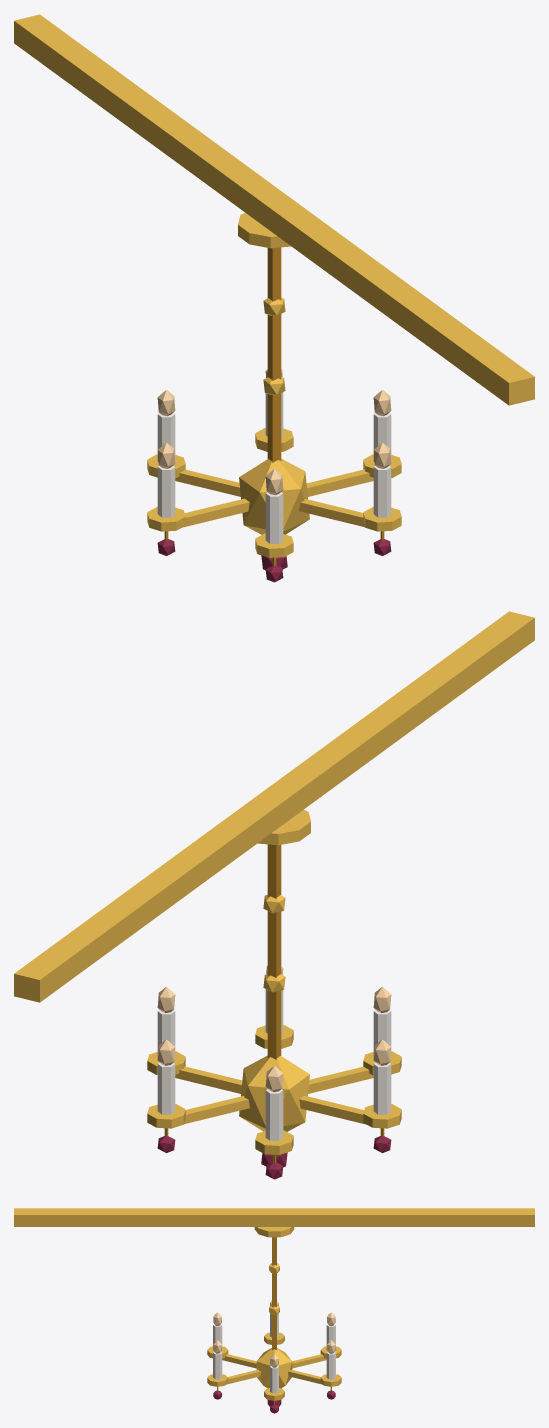
Rendered from CatCafe_Plot_ThemeGrandChandelier.glb.
3 renders of one model, top to bottom at view 1: azimuth 30°, elevation 25°; view 2: azimuth 150°, elevation 25°; view 3: azimuth 270°, elevation 25°, orthographic. The views are drawn at different scales.
Parts seen in each view (by area): view 1: CatCafe_Plot_ThemeGrandChandelier, CatCafe_Plot_ThemeGrandChandelier_Glow; view 2: CatCafe_Plot_ThemeGrandChandelier, CatCafe_Plot_ThemeGrandChandelier_Glow; view 3: CatCafe_Plot_ThemeGrandChandelier, CatCafe_Plot_ThemeGrandChandelier_Glow.
Boxes of the visible parts, x1,y1,x2,y2 form: CatCafe_Plot_ThemeGrandChandelier: (14,14,534,582); CatCafe_Plot_ThemeGrandChandelier_Glow: (157,369,391,495); CatCafe_Plot_ThemeGrandChandelier: (14,611,534,1179); CatCafe_Plot_ThemeGrandChandelier_Glow: (157,966,391,1092); CatCafe_Plot_ThemeGrandChandelier: (14,1208,534,1413); CatCafe_Plot_ThemeGrandChandelier_Glow: (213,1301,335,1367).
Bounding box in the file's own units: 2.32 × 3.32 × 7.94.
1 material, 1 textured.
